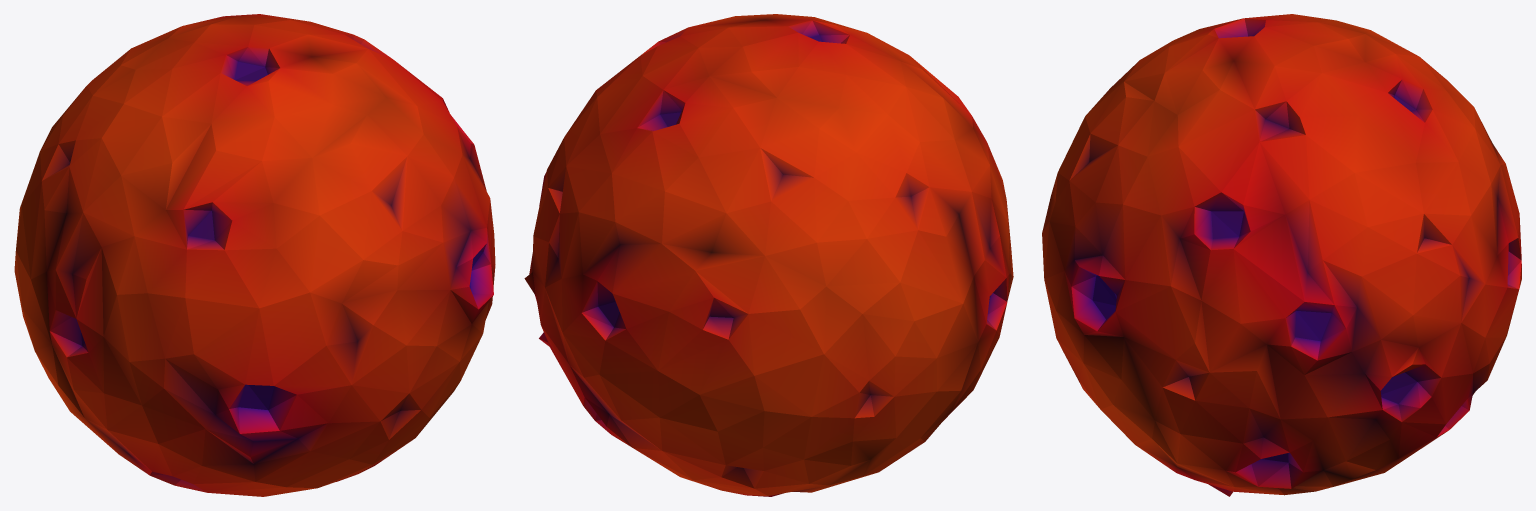
Rendered from moon36.fbx.
3 views of the same model, side by side, from view 1: azimuth 30°, elevation 25°; view 2: azimuth 150°, elevation 25°; view 3: azimuth 270°, elevation 25° (orthographic).
Visible parts, largest first — view 1: attribblur1; view 2: attribblur1; view 3: attribblur1.
Boxes of the visible parts, x1,y1,x2,y2 form: attribblur1: (14, 14, 495, 496); attribblur1: (524, 14, 1013, 496); attribblur1: (1042, 14, 1521, 496).
Size of the model in its own units: 0.7219 by 0.7223 by 0.711.
